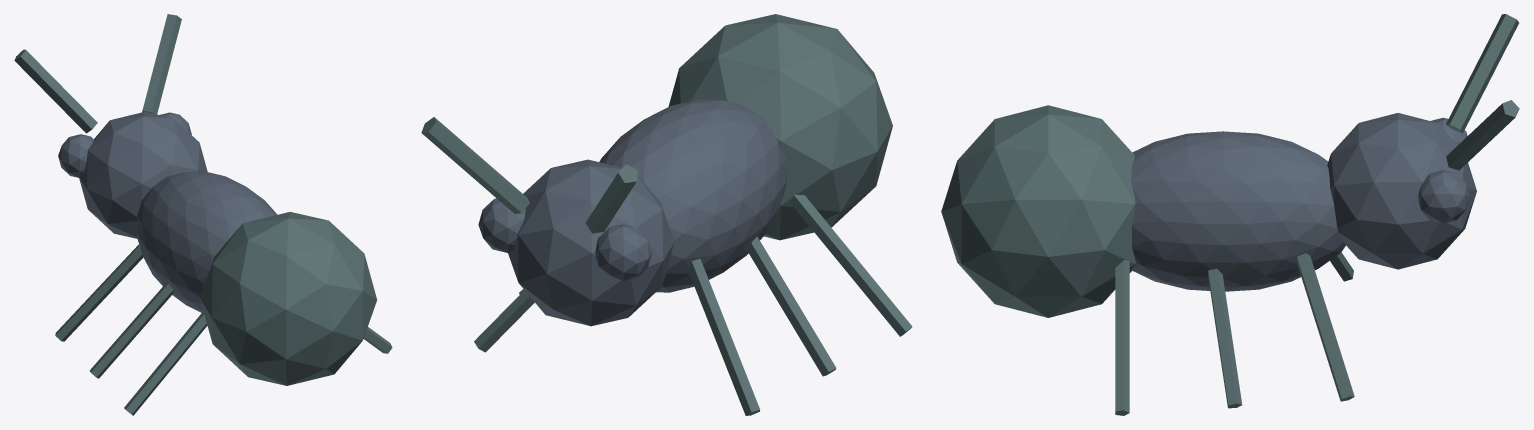
The model's file is ant.glb.
3 renders of one model, left to right at view 1: azimuth 30°, elevation 25°; view 2: azimuth 150°, elevation 25°; view 3: azimuth 270°, elevation 25°, orthographic. The views are drawn at different scales.
Parts seen in each view (by area): view 1: Abdomen, Body, Head, Antenna_-1, Antenna_1, Leg_-1_2, Leg_-1_0, Leg_-1_1, Eye_-1, Leg_1_2; view 2: Abdomen, Body, Head, Leg_-1_2, Antenna_1, Leg_-1_0, Leg_-1_1, Eye_-1, Eye_1, Antenna_-1, Leg_1_0; view 3: Abdomen, Body, Head, Antenna_-1, Leg_1_0, Leg_1_2, Eye_1, Leg_1_1, Antenna_1.
Boxes of the visible parts, <box> form: Abdomen: <box>200,212,376,385</box>; Body: <box>137,171,277,312</box>; Head: <box>79,111,207,238</box>; Antenna_-1: <box>14,49,97,133</box>; Antenna_1: <box>142,14,181,114</box>; Leg_-1_2: <box>124,311,207,415</box>; Leg_-1_0: <box>55,244,143,341</box>; Leg_-1_1: <box>89,283,173,378</box>; Eye_-1: <box>58,134,93,177</box>; Leg_1_2: <box>363,327,392,353</box>; Abdomen: <box>668,14,892,240</box>; Body: <box>599,99,786,292</box>; Head: <box>508,159,674,326</box>; Leg_-1_2: <box>790,194,912,336</box>; Antenna_1: <box>421,117,529,213</box>; Leg_-1_0: <box>688,258,760,415</box>; Leg_-1_1: <box>748,236,836,376</box>; Eye_-1: <box>595,224,652,281</box>; Eye_1: <box>478,198,525,252</box>; Antenna_-1: <box>585,164,637,233</box>; Leg_1_0: <box>474,290,534,352</box>; Abdomen: <box>941,105,1135,317</box>; Body: <box>1131,131,1345,291</box>; Head: <box>1327,113,1476,269</box>; Antenna_-1: <box>1446,14,1518,133</box>; Leg_1_0: <box>1297,253,1354,401</box>; Leg_1_2: <box>1115,260,1129,415</box>; Eye_1: <box>1418,170,1470,223</box>; Leg_1_1: <box>1208,268,1242,408</box>; Antenna_1: <box>1446,100,1519,170</box>.
Bounding box in the file's own units: 0.6582 × 0.5573 × 1.03.
